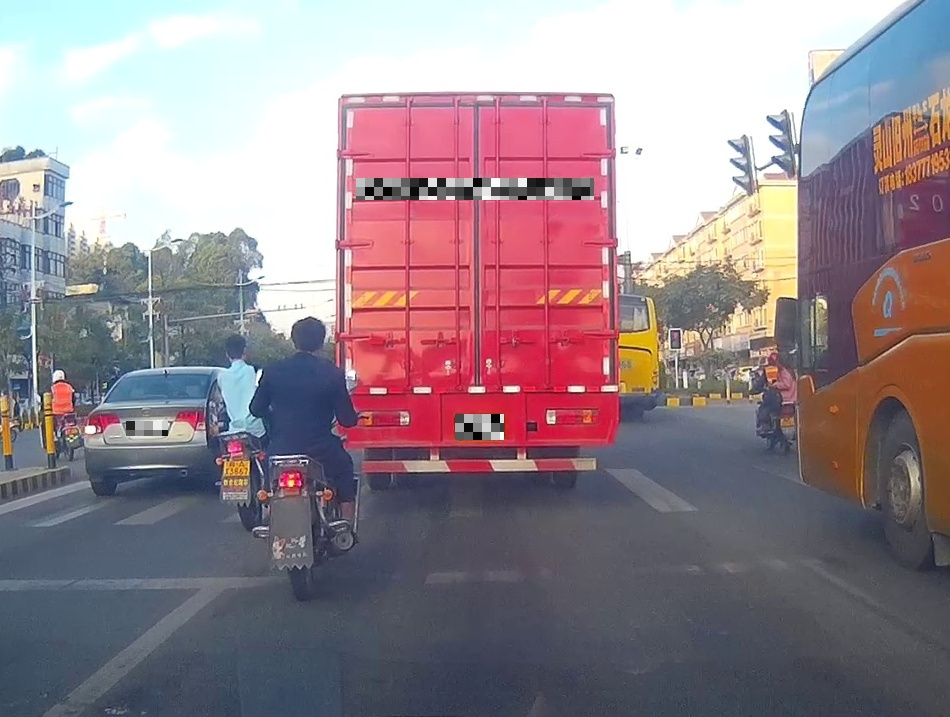L_light: (357, 410, 410, 426), (84, 413, 121, 435)
R_light: (545, 409, 599, 424), (174, 410, 208, 430)
T_light: (458, 106, 495, 119), (156, 371, 176, 377)
day-left: (83, 366, 216, 496)
day-no: (333, 92, 618, 490)
plate_1: (126, 421, 168, 436)
plate_2: (356, 178, 594, 200)
plate_3: (455, 414, 504, 440)
